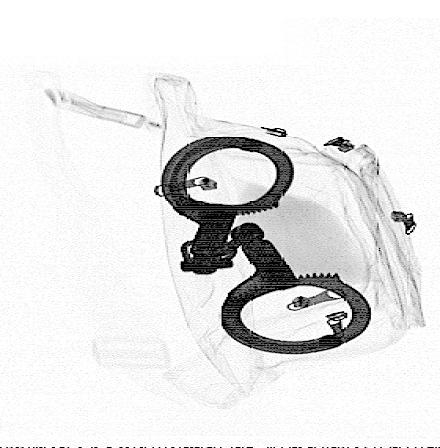HandCuffs: (157, 135, 376, 356)
